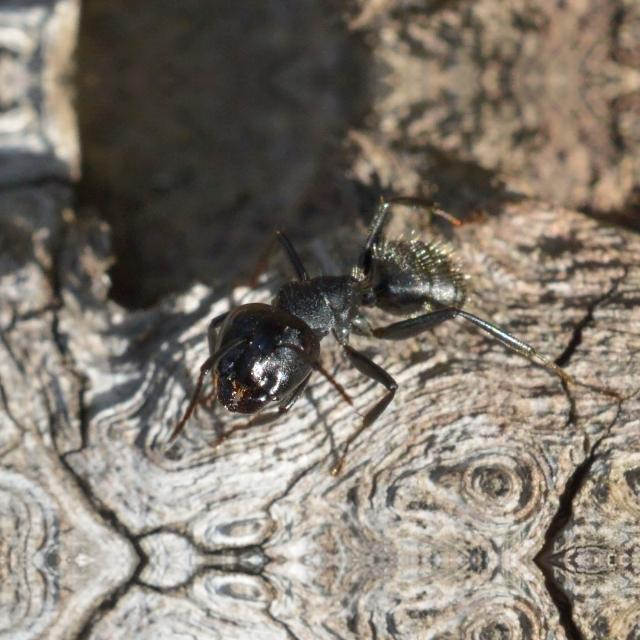Camponotus: (138, 206, 520, 432)
